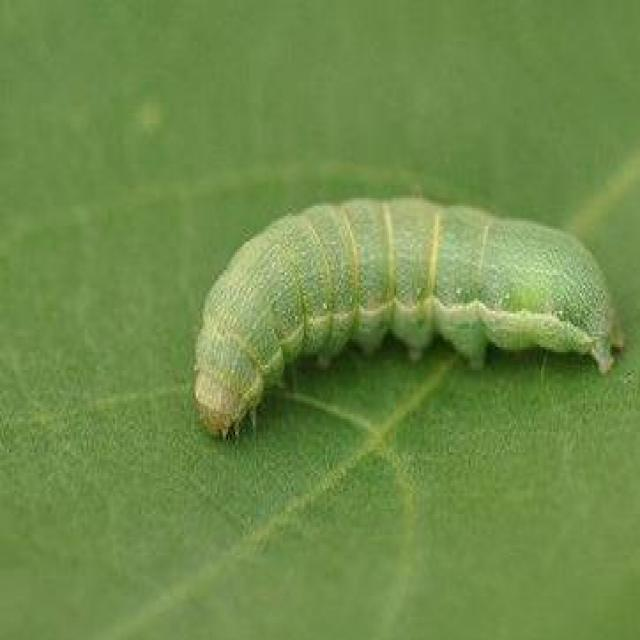BeetArmyWorm-Larva-: (142, 172, 638, 485)
